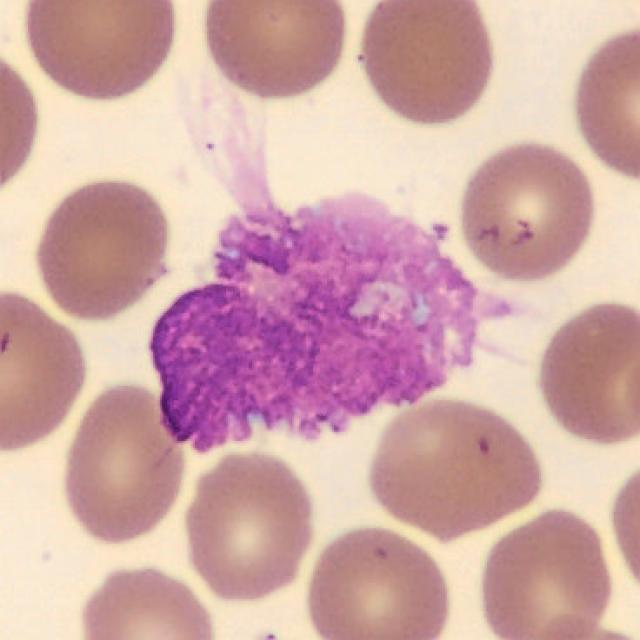Artefato: (150, 192, 494, 455)
